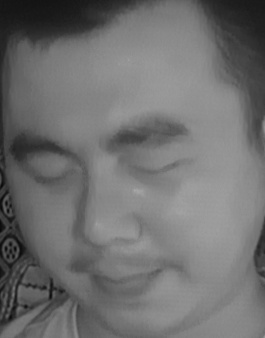blink: (128, 147, 188, 187), (27, 160, 77, 195)
mouth: (83, 258, 171, 311)
